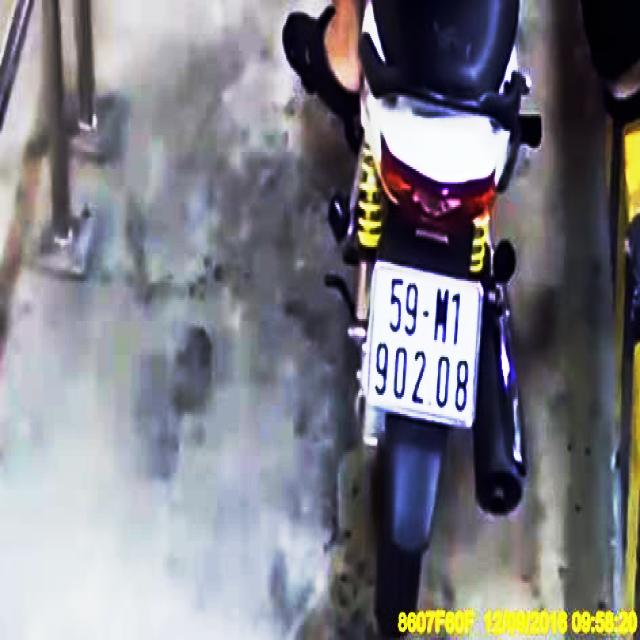license_plate: (370, 262, 485, 427)
